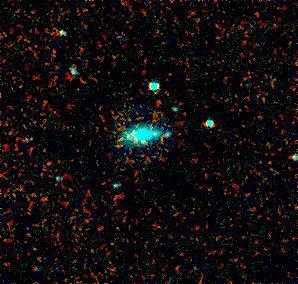star: (130, 129, 160, 159)
